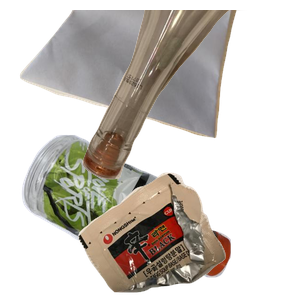glass: (80, 10, 300, 182)
paper: (17, 10, 254, 141)
plastic: (19, 132, 242, 300)
trash: (76, 170, 300, 300)
